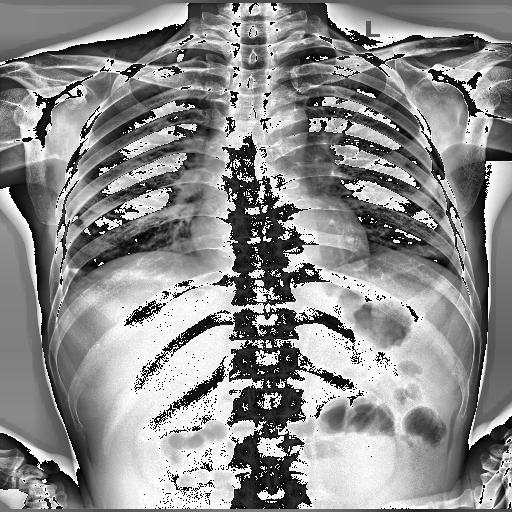10- Pleural effusion: (54, 282, 80, 312)
11- Pleural thickening: (54, 282, 80, 312)
13- Pulmonary fibrosis: (64, 266, 84, 278), (66, 268, 87, 278), (61, 266, 84, 274)
7- Lung Opacity: (66, 268, 87, 278)
